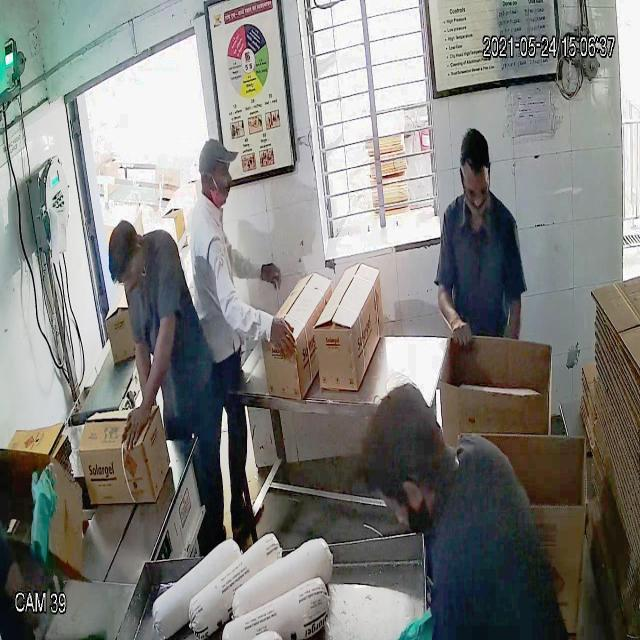glasses: (459, 164, 495, 203)
